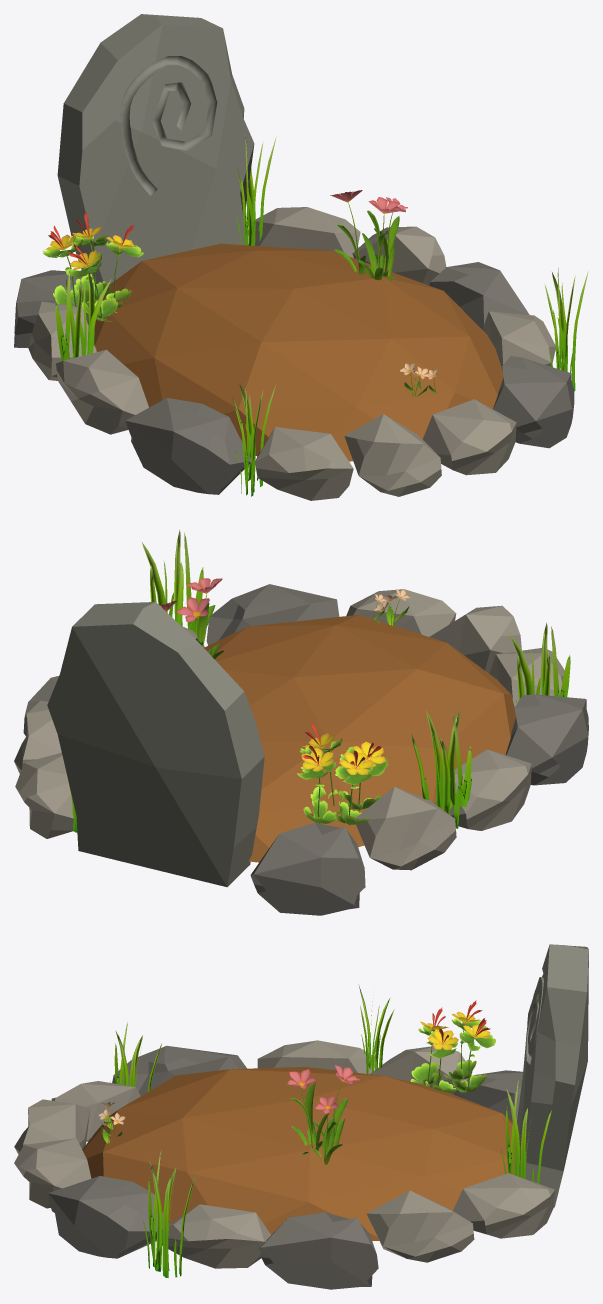
The model's file is Grave.fbx.
3 renders of one model, top to bottom at view 1: azimuth 30°, elevation 25°; view 2: azimuth 150°, elevation 25°; view 3: azimuth 270°, elevation 25°, orthographic. The views are drawn at different scales.
Parts seen in each view (by area): view 1: Grass_Common_Short.003; view 2: Grass_Common_Short.003; view 3: Grass_Common_Short.003.
Boxes of the visible parts, box(x1,y1,x2,y2) form: Grass_Common_Short.003: box(14, 14, 588, 500); Grass_Common_Short.003: box(14, 529, 588, 915); Grass_Common_Short.003: box(14, 944, 588, 1289).
Bounding box in the file's own units: 184 × 109 × 230.
